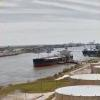Boat: (30, 50, 84, 73)
